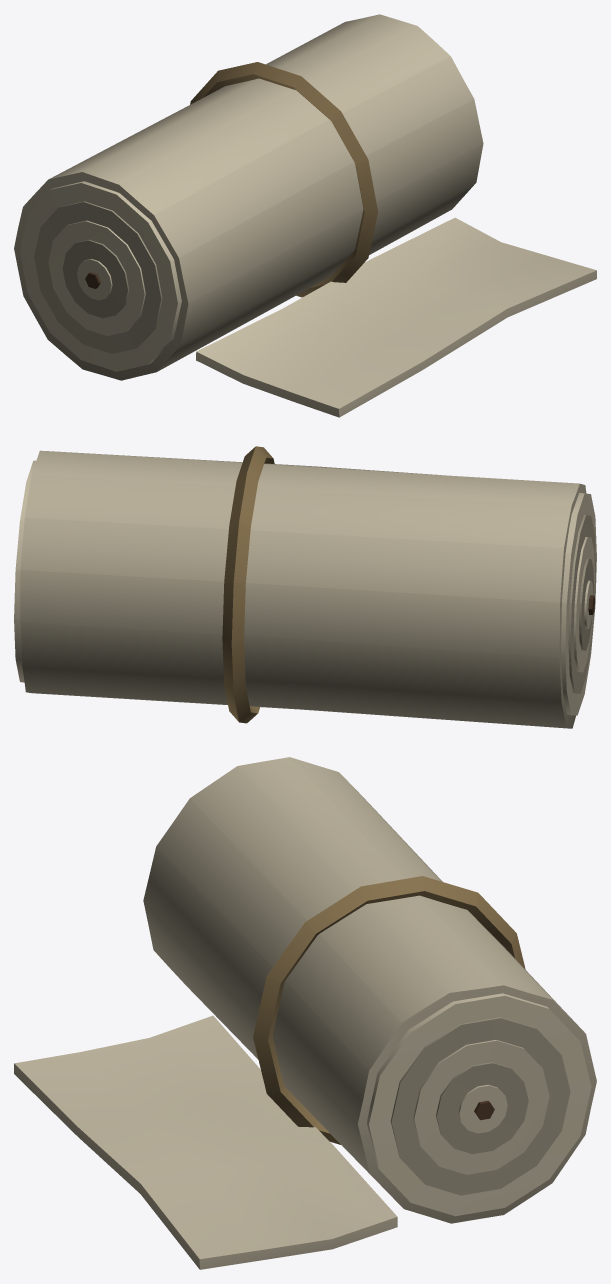
The model's file is ph_item_linen.glb.
3 renders of one model, top to bottom at view 1: azimuth 30°, elevation 25°; view 2: azimuth 150°, elevation 25°; view 3: azimuth 270°, elevation 25°, orthographic. The views are drawn at different scales.
Parts seen in each view (by area): view 1: ph_item_linen; view 2: ph_item_linen; view 3: ph_item_linen.
Part boxes in pixels (x1,y1,x2,y2): ph_item_linen: (14,14,596,417); ph_item_linen: (14,446,596,728); ph_item_linen: (14,757,596,1269).
Bounding box in the file's own units: 0.364 × 0.1521 × 0.3038.
